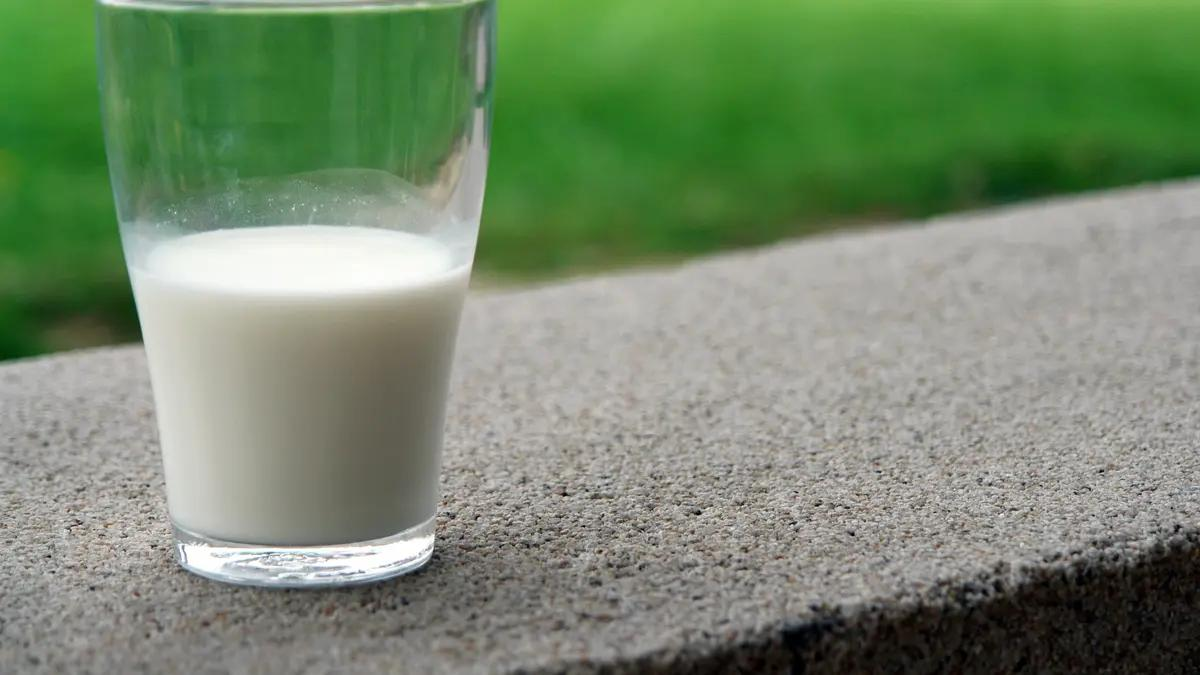produk_susu: (158, 157, 426, 522)
